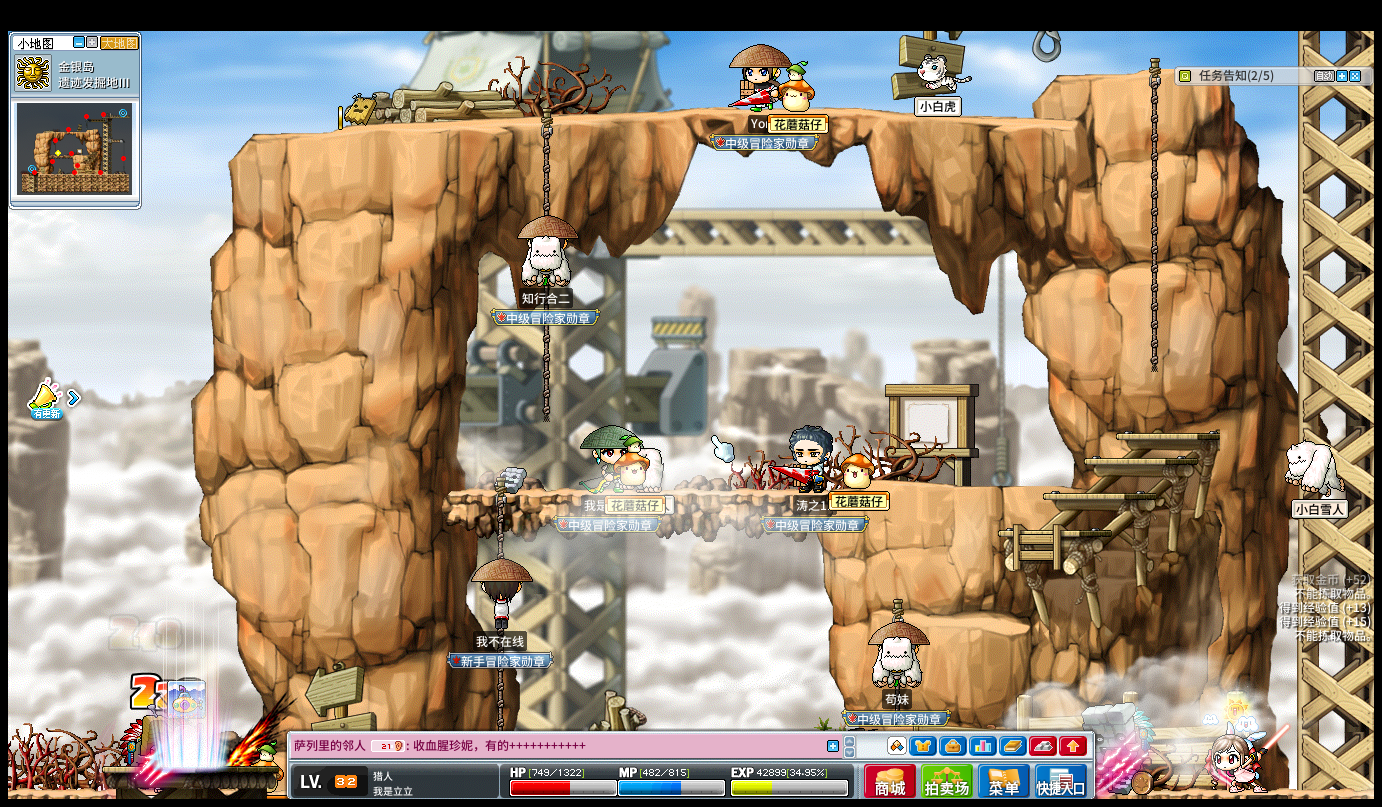floor: (222, 103, 1081, 138), (445, 487, 823, 498), (924, 613, 1029, 634), (904, 482, 1076, 492), (1052, 67, 1169, 81), (1114, 429, 1221, 441), (1077, 456, 1193, 464), (1041, 492, 1154, 500), (995, 528, 1108, 536)
monster: (1084, 703, 1154, 788), (120, 715, 169, 785)
rope: (1146, 56, 1160, 377), (541, 106, 552, 215), (492, 481, 505, 559), (540, 321, 550, 421), (494, 668, 503, 723)
